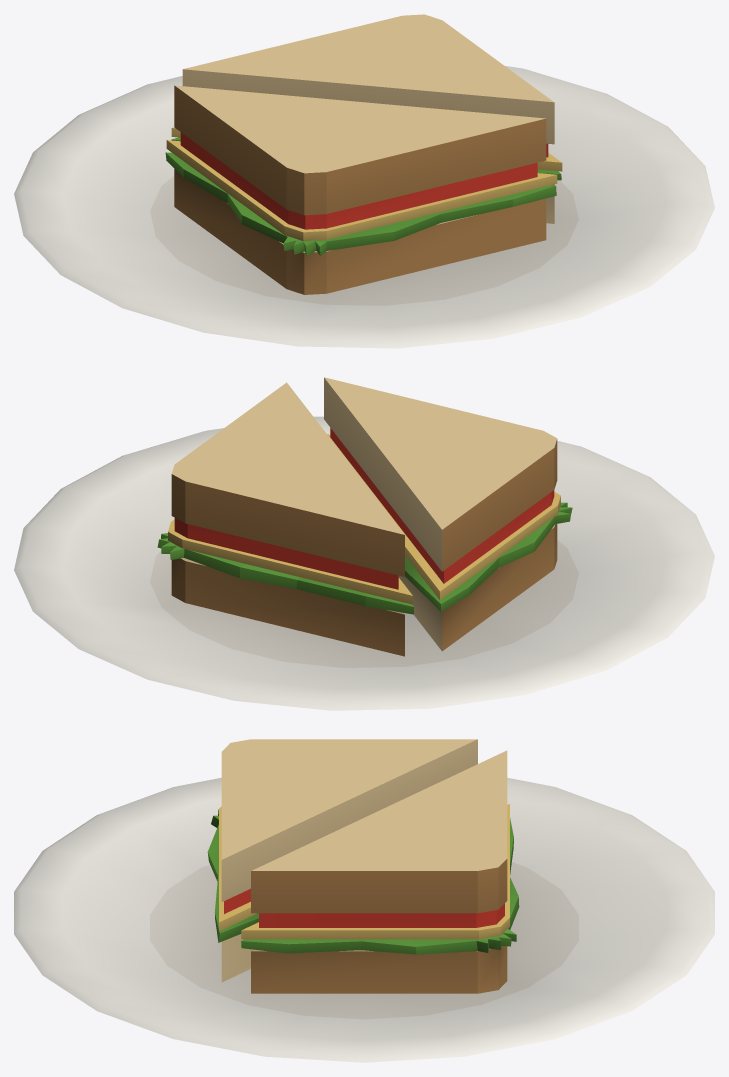
File: sandwich.glb
3 views of the same model, one above another, from view 1: azimuth 30°, elevation 25°; view 2: azimuth 150°, elevation 25°; view 3: azimuth 270°, elevation 25° (orthographic).
Parts seen in each view (by area): view 1: sandwich; view 2: sandwich; view 3: sandwich.
Part boxes in pixels (box(x1,y1,x2,y2)): sandwich: box(14, 14, 714, 348); sandwich: box(14, 377, 714, 710); sandwich: box(14, 739, 714, 1062).
Size of the model in its own units: 0.2876 by 0.064 by 0.2847.
